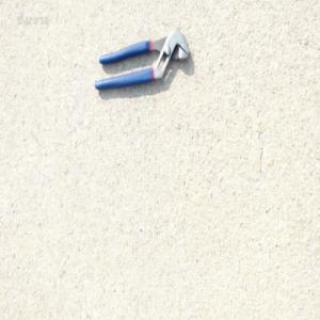Pliertrack_idkeyframe: (92, 26, 189, 90)
